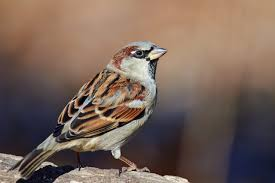hsparrow: (7, 37, 169, 179)
